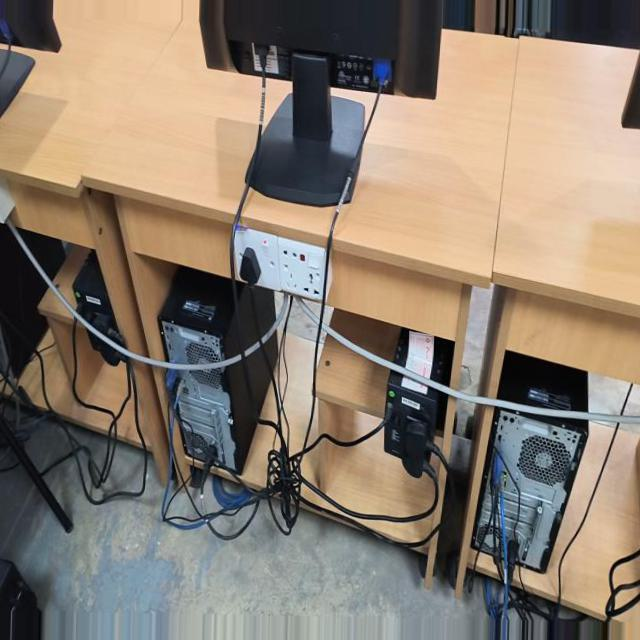Cpu: (488, 414, 577, 584), (187, 373, 242, 480), (171, 325, 229, 370), (474, 499, 490, 564)
Monitor: (198, 0, 429, 199), (601, 0, 640, 109), (0, 34, 42, 124)
